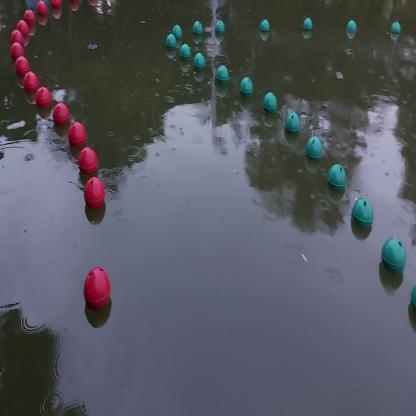green_buoy: (381, 233, 406, 289), (352, 196, 375, 237), (328, 159, 346, 202), (307, 132, 322, 166), (263, 88, 277, 124), (285, 112, 301, 140), (241, 74, 255, 101), (166, 30, 178, 60), (193, 50, 205, 78), (214, 16, 228, 38), (180, 43, 192, 66), (217, 64, 229, 87), (346, 20, 358, 43), (260, 16, 271, 38), (172, 22, 181, 48), (390, 20, 401, 41), (304, 15, 313, 40), (193, 18, 203, 40)
red_buoy: (82, 266, 112, 316), (85, 174, 106, 218), (80, 147, 99, 185), (52, 102, 72, 132), (70, 123, 88, 154), (37, 82, 52, 118), (14, 18, 31, 45), (24, 69, 38, 100), (15, 52, 28, 84), (10, 28, 23, 57), (23, 7, 36, 33), (10, 41, 24, 65), (35, 1, 48, 22)
